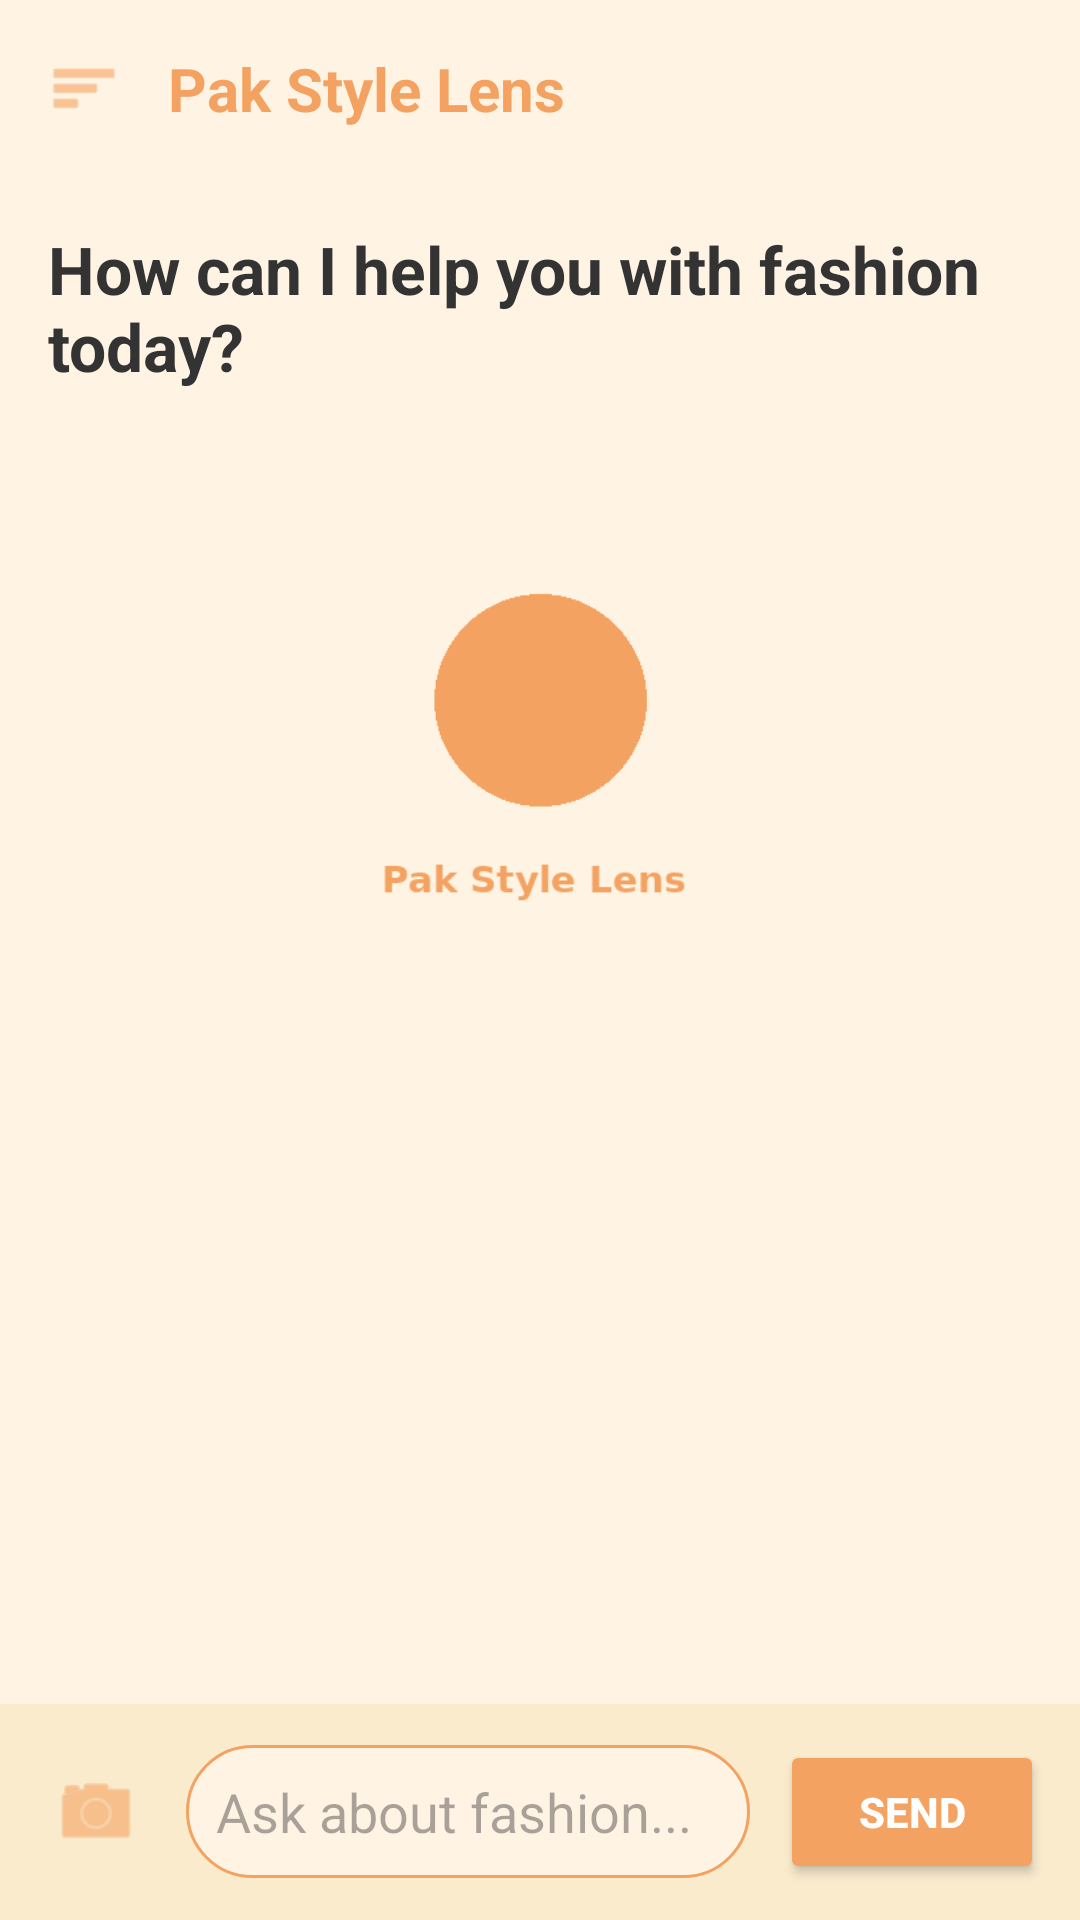

Icon click points for this 1080px x 1920px phone screenshot, format [x,y]:
Camera Button: [96,1810]
sort by size: [84,88]
